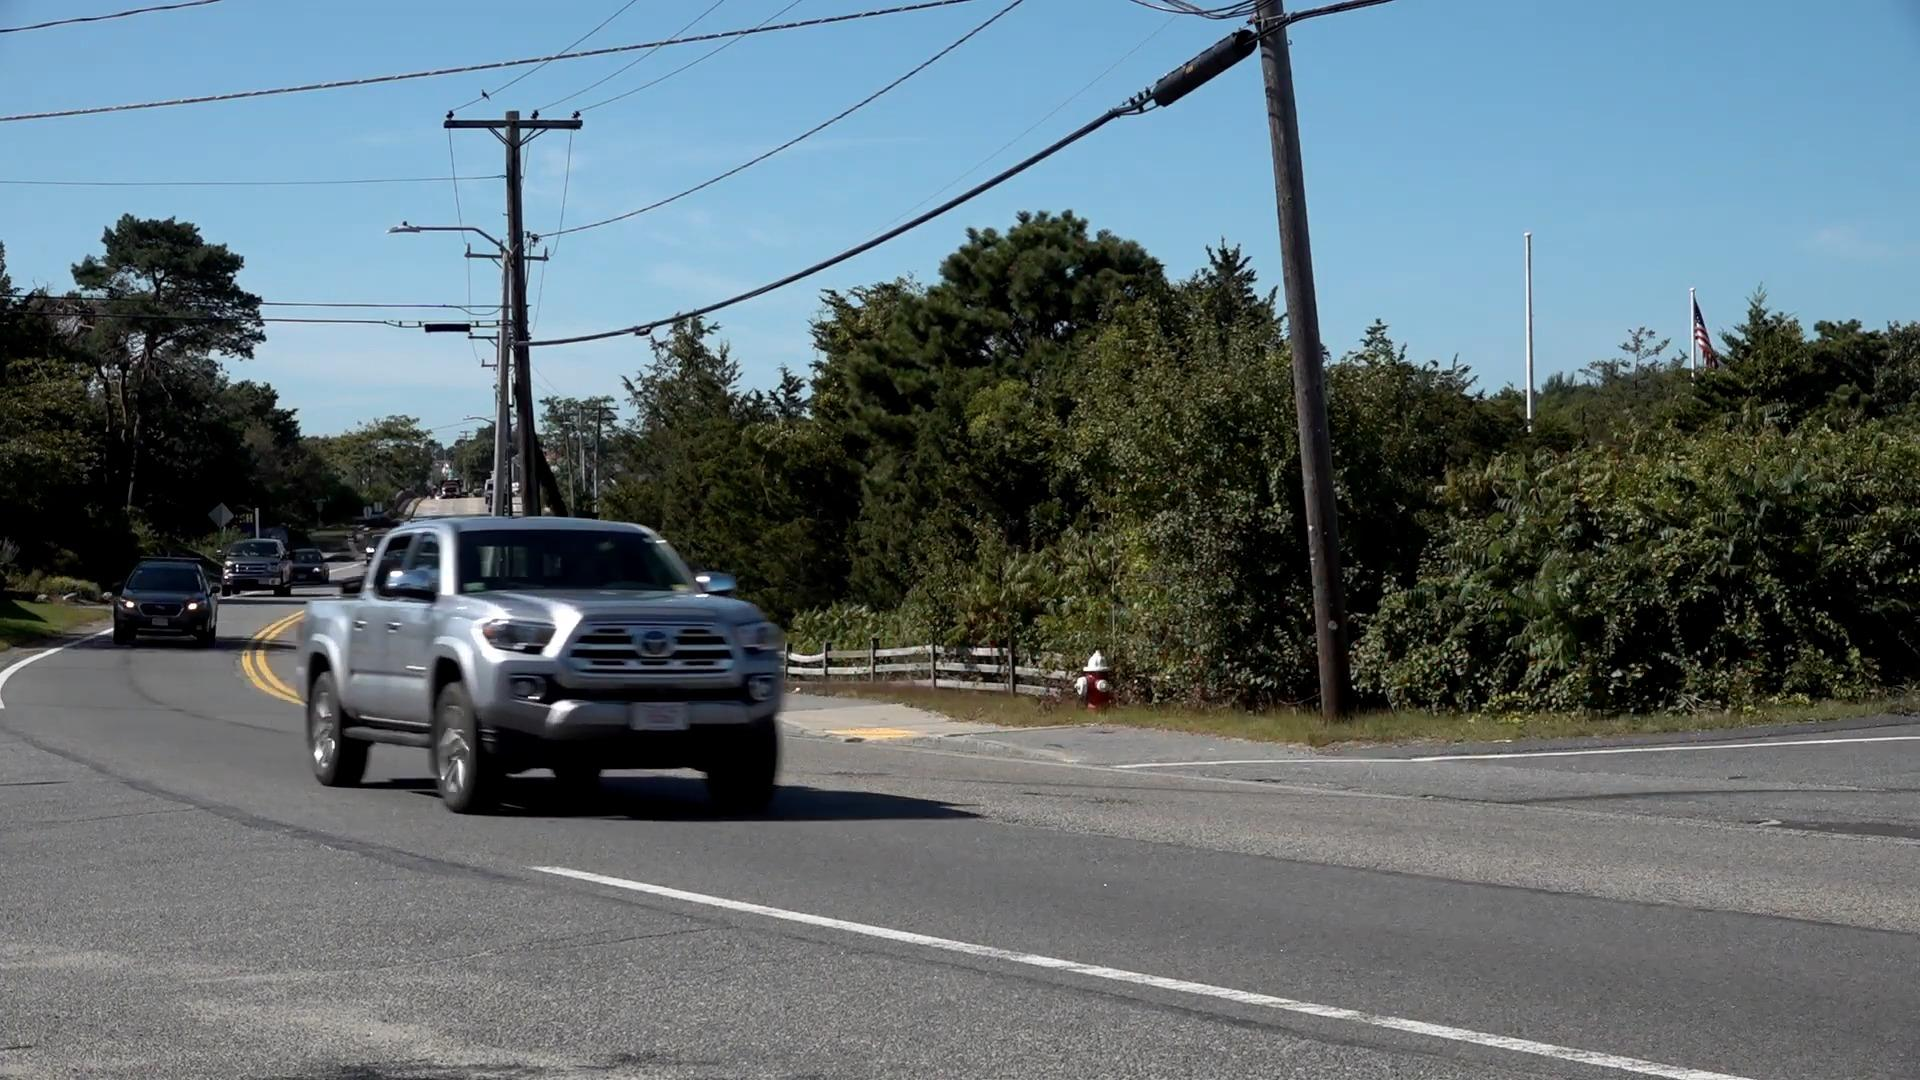pickup: (298, 516, 794, 806)
suv: (113, 564, 225, 641)
